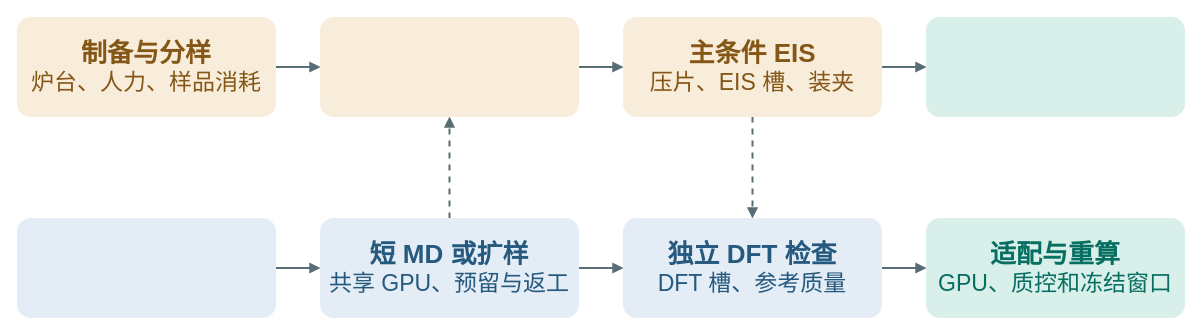
The diagram is 1202 pixels wide and 335 high, and some of its shapes have lost their labels. Each missing label, with the centre of its shape:
物相与成分 XRD 槽 · 审核发布: point (449, 66)
独立新批确认 重复制备与最终判据: point (1055, 66)
结构支持与外送 构型权重或局域表征: point (146, 268)
